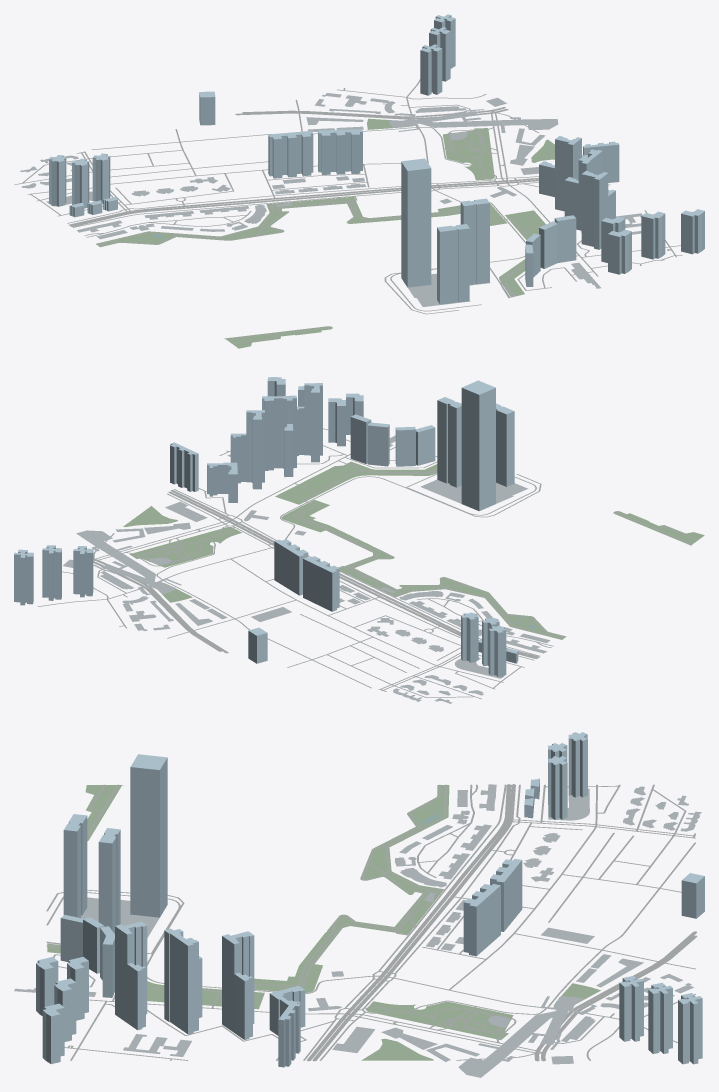
Rendered from -11_-6-known-coarse.glb.
3 renders of one model, top to bottom at view 1: azimuth 30°, elevation 25°; view 2: azimuth 150°, elevation 25°; view 3: azimuth 270°, elevation 25°, orthographic. The views are drawn at different scales.
Size of the model in its own units: 1068 by 250 by 1060.
